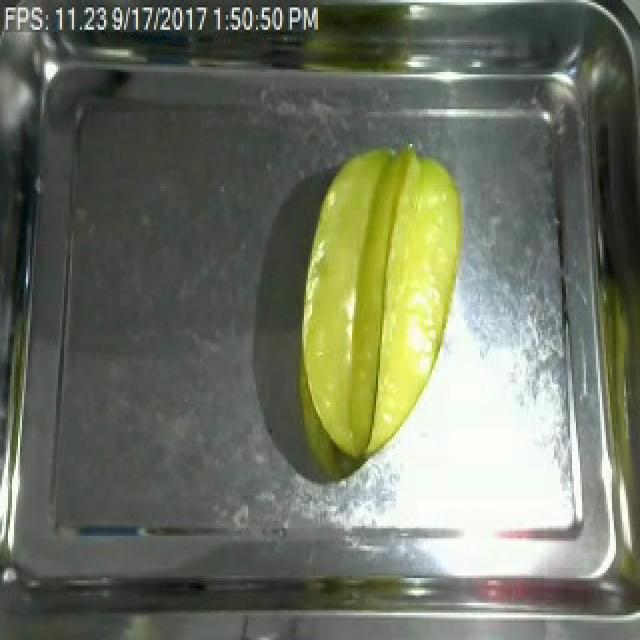fruit: (288, 136, 474, 474)
